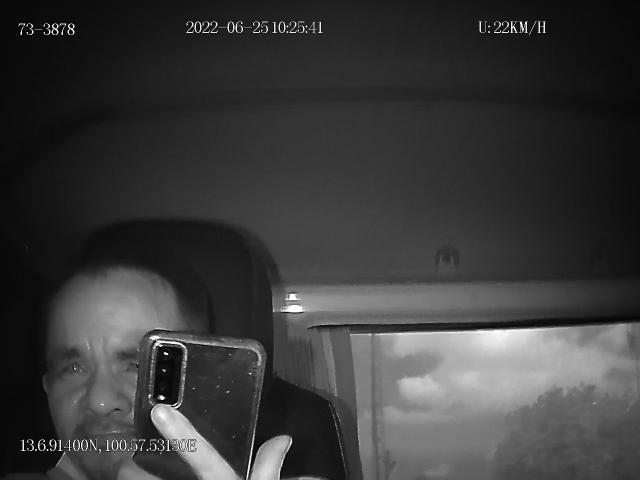PhoneUse: (132, 330, 266, 480)
SafeDriving: (52, 350, 94, 388)
